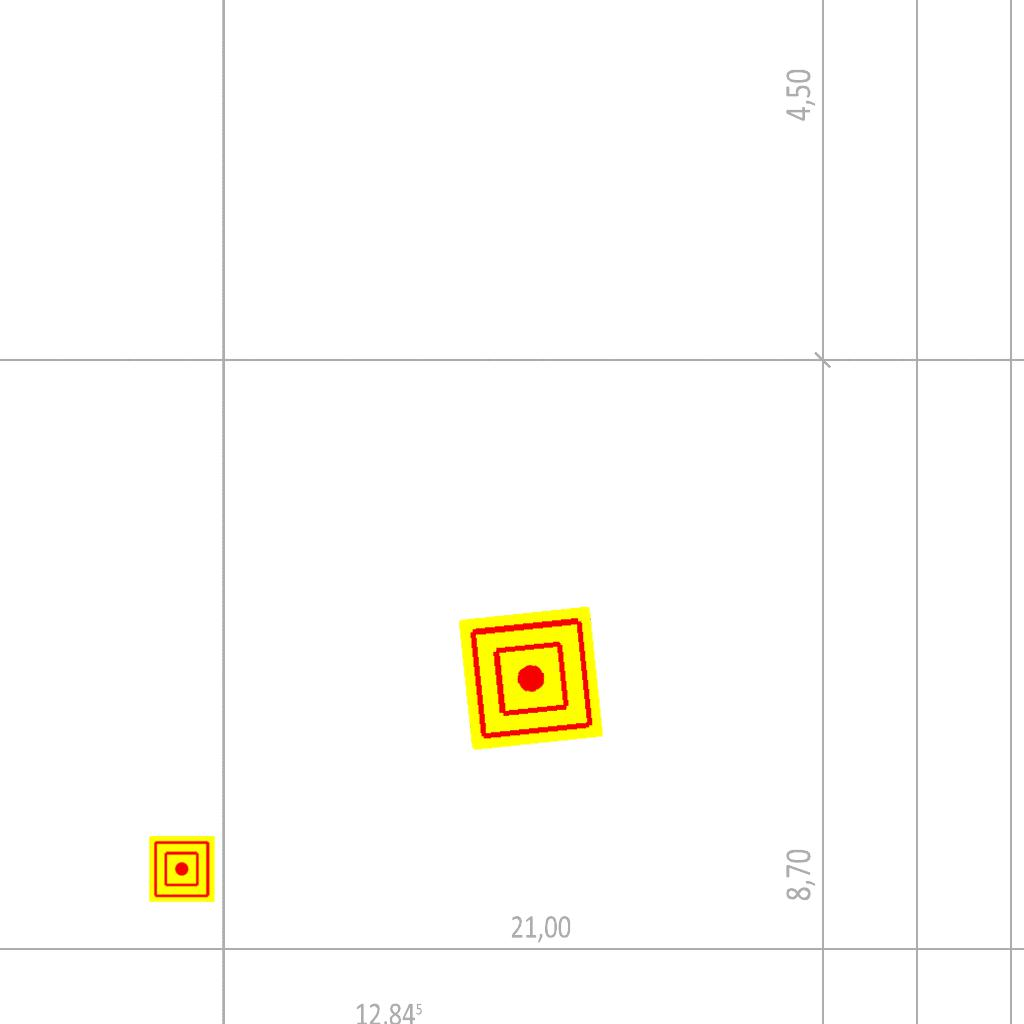NAM-Nichtautomatischer_Melder: (458, 605, 604, 751), (149, 836, 215, 902)
